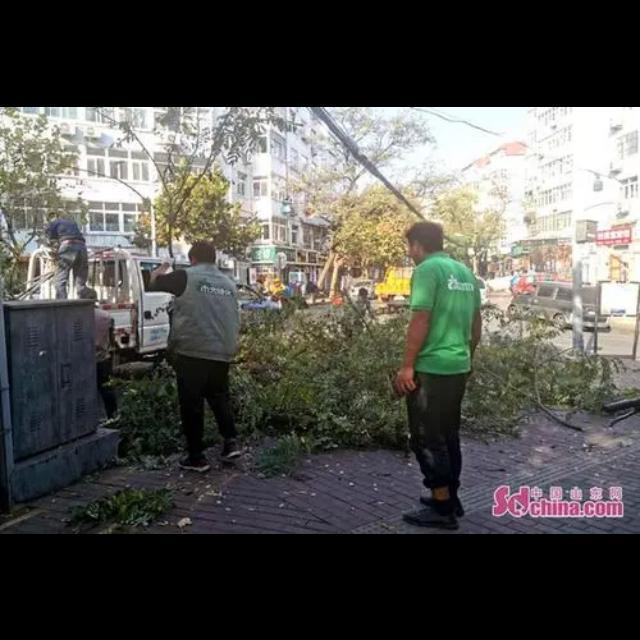fallen_tree: (115, 298, 591, 446)
